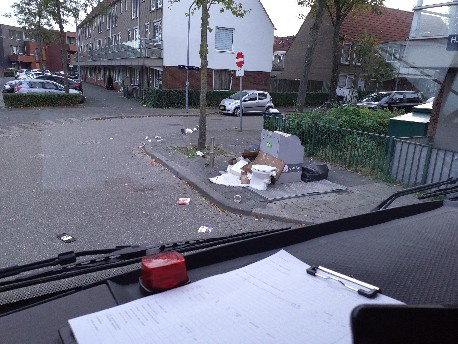Container: (271, 131, 307, 192)
Rest: (248, 148, 277, 191), (224, 153, 246, 194), (300, 166, 342, 182)
Voertuig: (220, 94, 290, 140), (20, 70, 81, 103), (351, 98, 414, 113)
